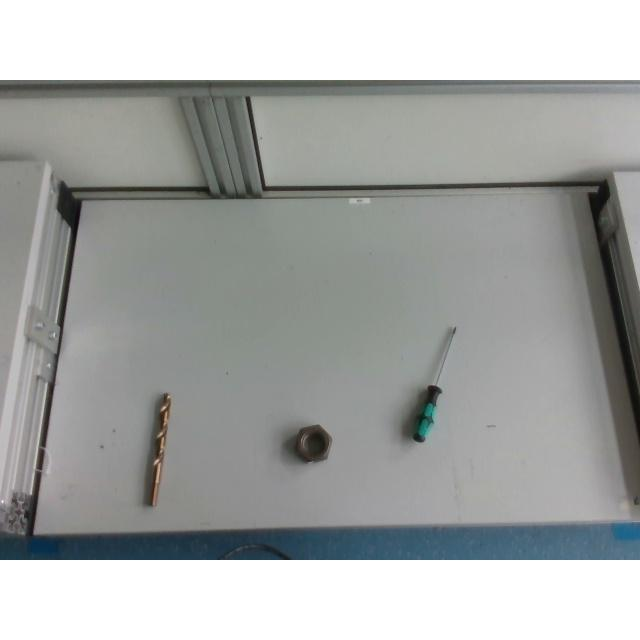Drill: (144, 393, 172, 507)
M30: (294, 424, 334, 464)
Screwdriver: (414, 324, 456, 440)
